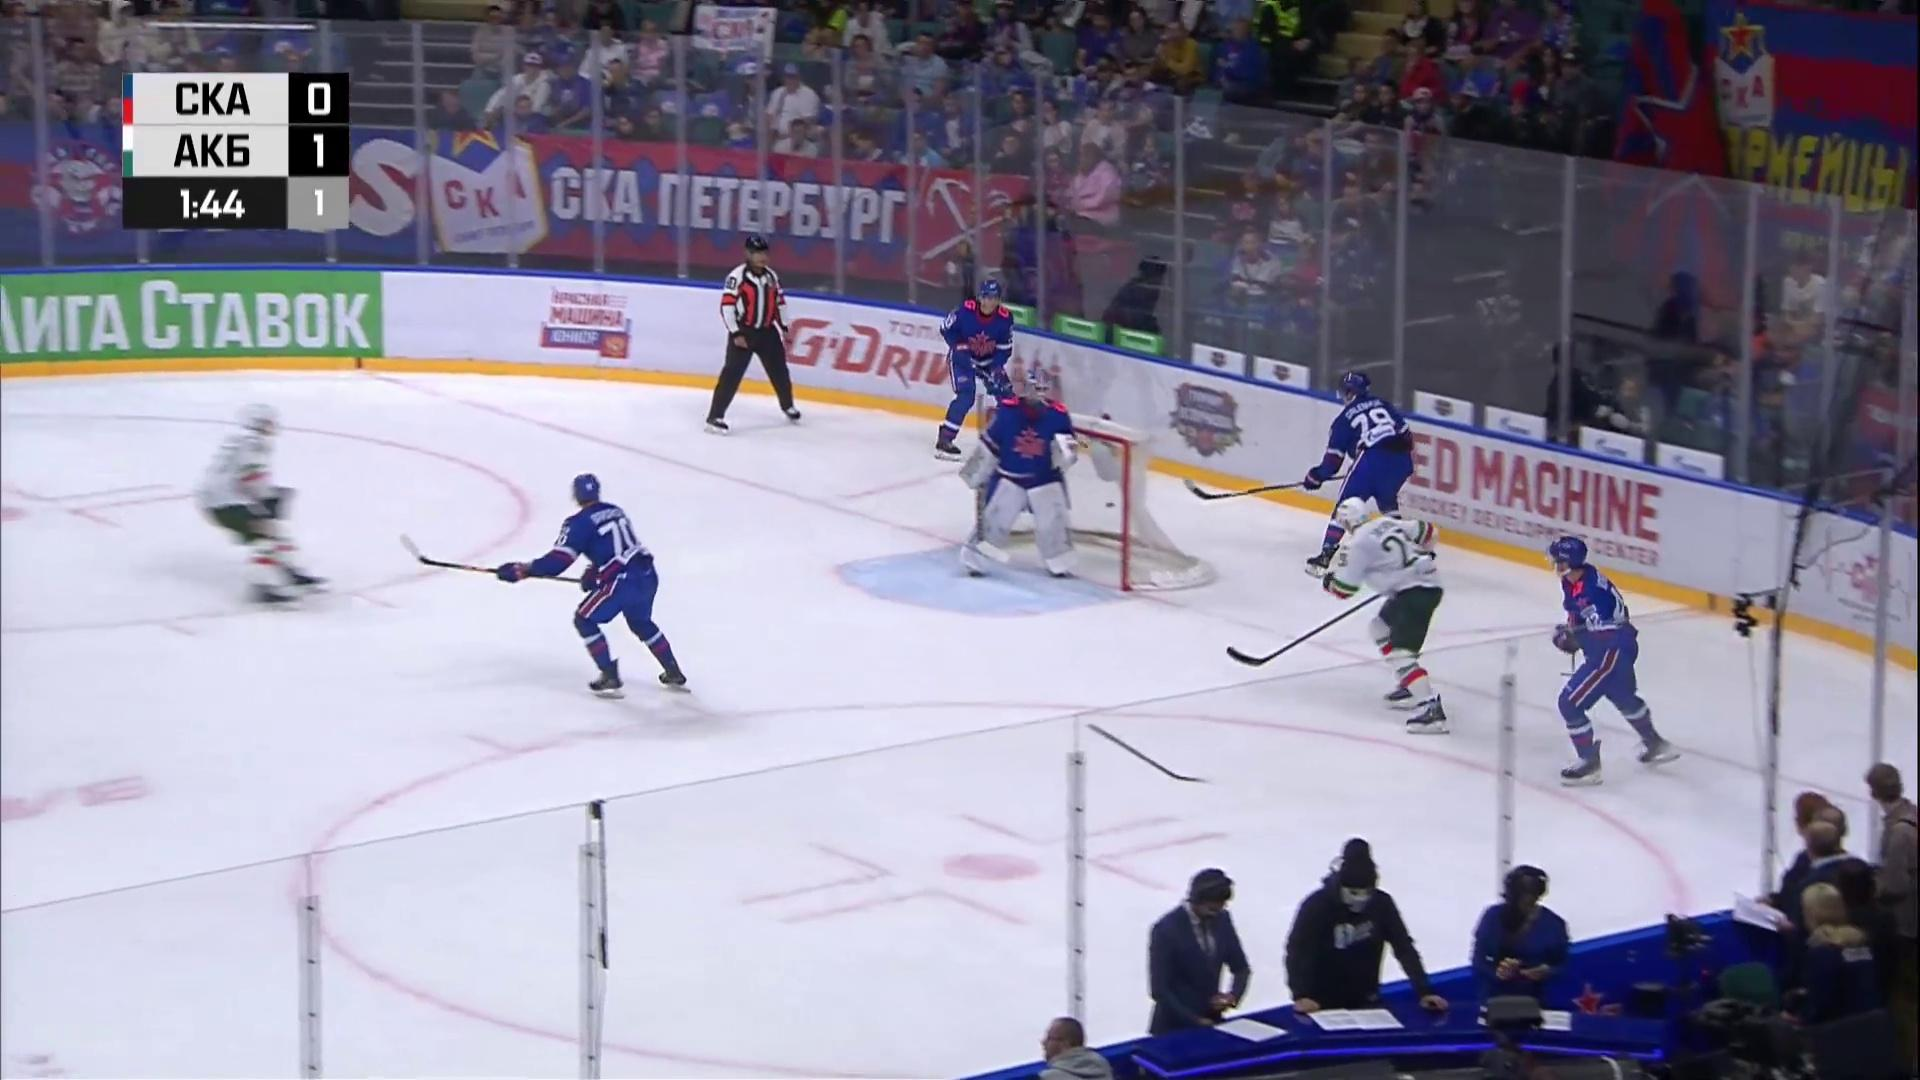ball: (1105, 501, 1116, 508)
